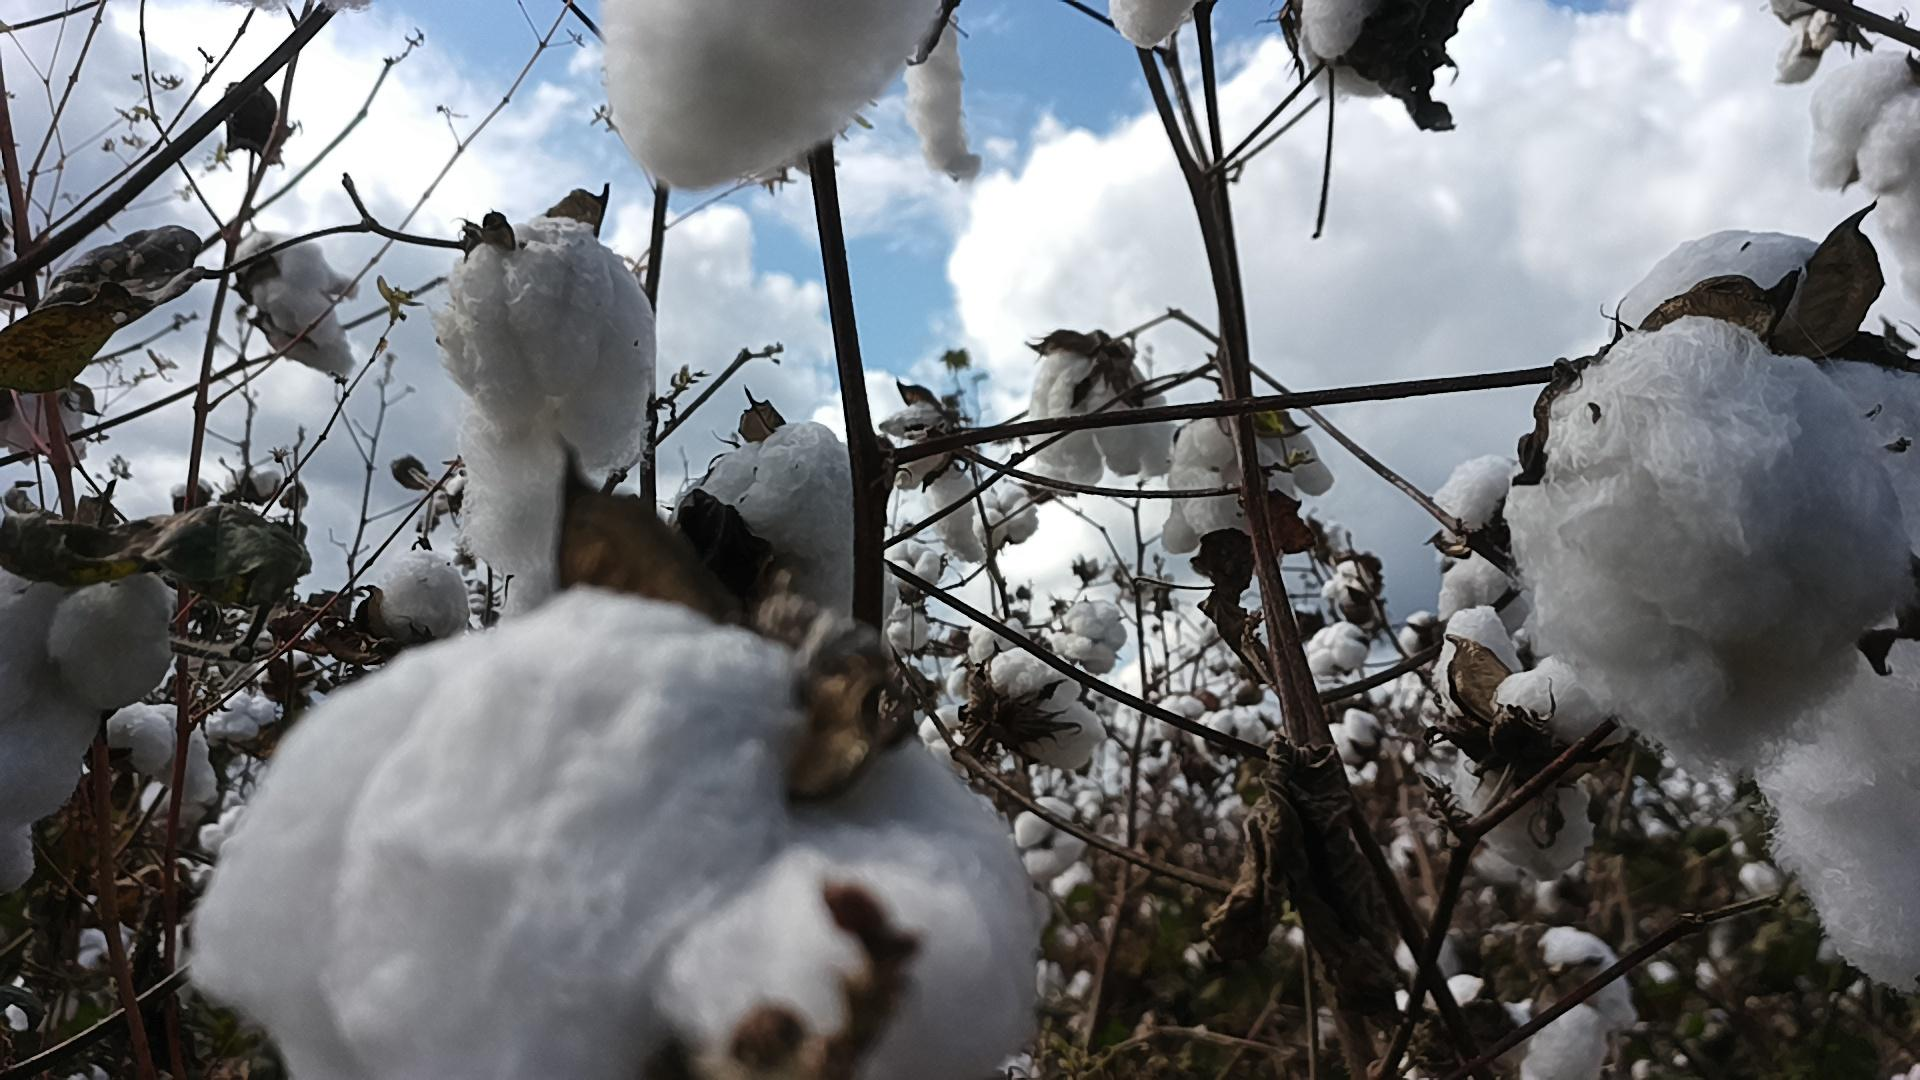cotton_ready: (186, 585, 1048, 1080), (1607, 223, 1920, 1010), (1509, 315, 1920, 773), (438, 227, 658, 578), (605, 0, 945, 195), (1443, 605, 1631, 878), (0, 568, 178, 837), (694, 415, 870, 634), (1422, 923, 1638, 1080), (1803, 46, 1920, 297), (1159, 401, 1338, 555), (1027, 334, 1180, 487), (948, 645, 1108, 773), (876, 400, 988, 566), (240, 227, 357, 385), (1437, 455, 1534, 640), (1294, 0, 1444, 103), (906, 8, 988, 181), (364, 550, 476, 649), (1774, 0, 1844, 88), (1108, 0, 1197, 47)
